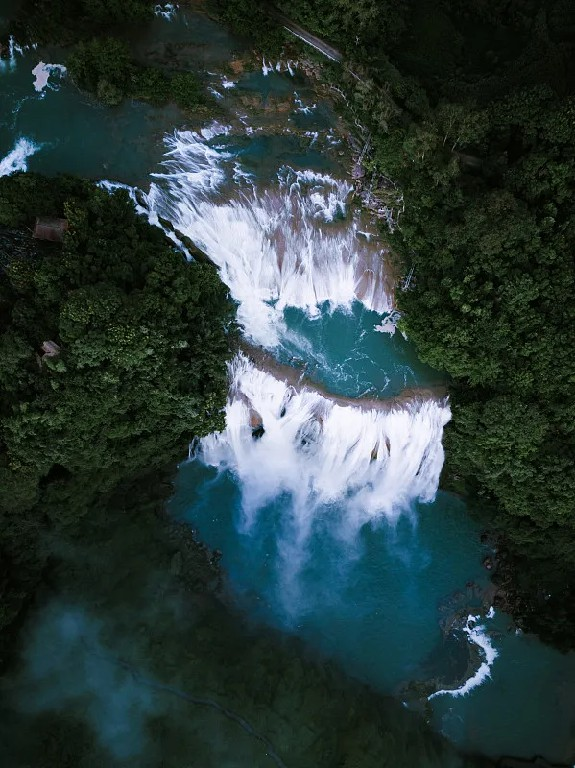Huangguoshu: (192, 205, 451, 510)
